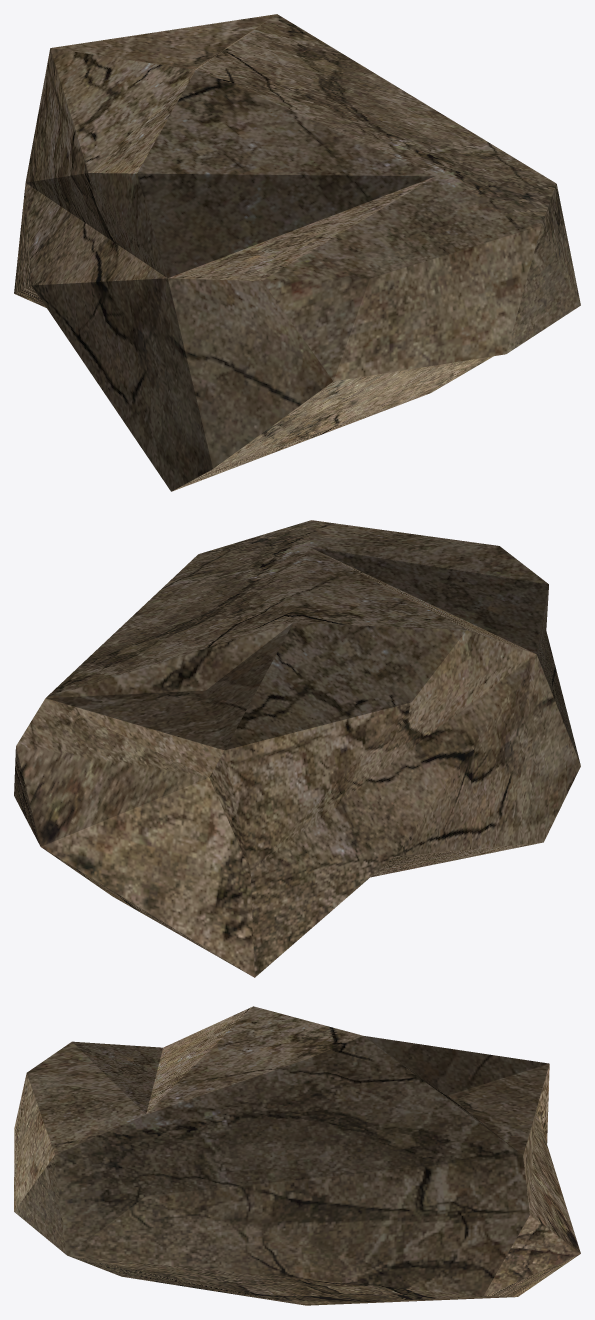
The model's file is rockgranite01a.fbx.
The picture shows the model from 3 angles, top to bottom: view 1: azimuth 30°, elevation 25°; view 2: azimuth 150°, elevation 25°; view 3: azimuth 270°, elevation 25°; orthographic projection. The views are drawn at different scales.
Visible parts, largest first — view 1: studiomesh_5; view 2: studiomesh_5; view 3: studiomesh_5.
Part boxes in pixels (x1,y1,x2,y2): studiomesh_5: (14, 14, 580, 491); studiomesh_5: (14, 520, 580, 977); studiomesh_5: (14, 1006, 580, 1305).
Size of the model in its own units: 117 by 86.99 by 178.
